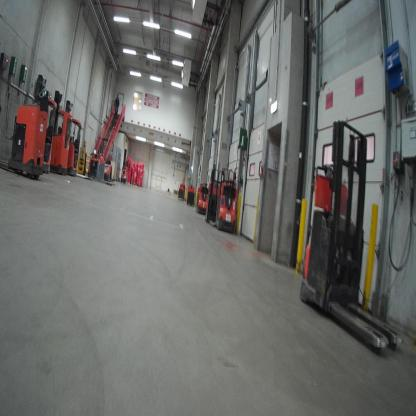forklift: (1, 83, 57, 182), (65, 95, 91, 190), (44, 83, 69, 178)
pallet_truck: (295, 114, 409, 367), (203, 156, 243, 233), (86, 141, 110, 189), (196, 178, 211, 220), (104, 153, 117, 191), (185, 180, 196, 210), (175, 177, 186, 205), (121, 159, 130, 184)
